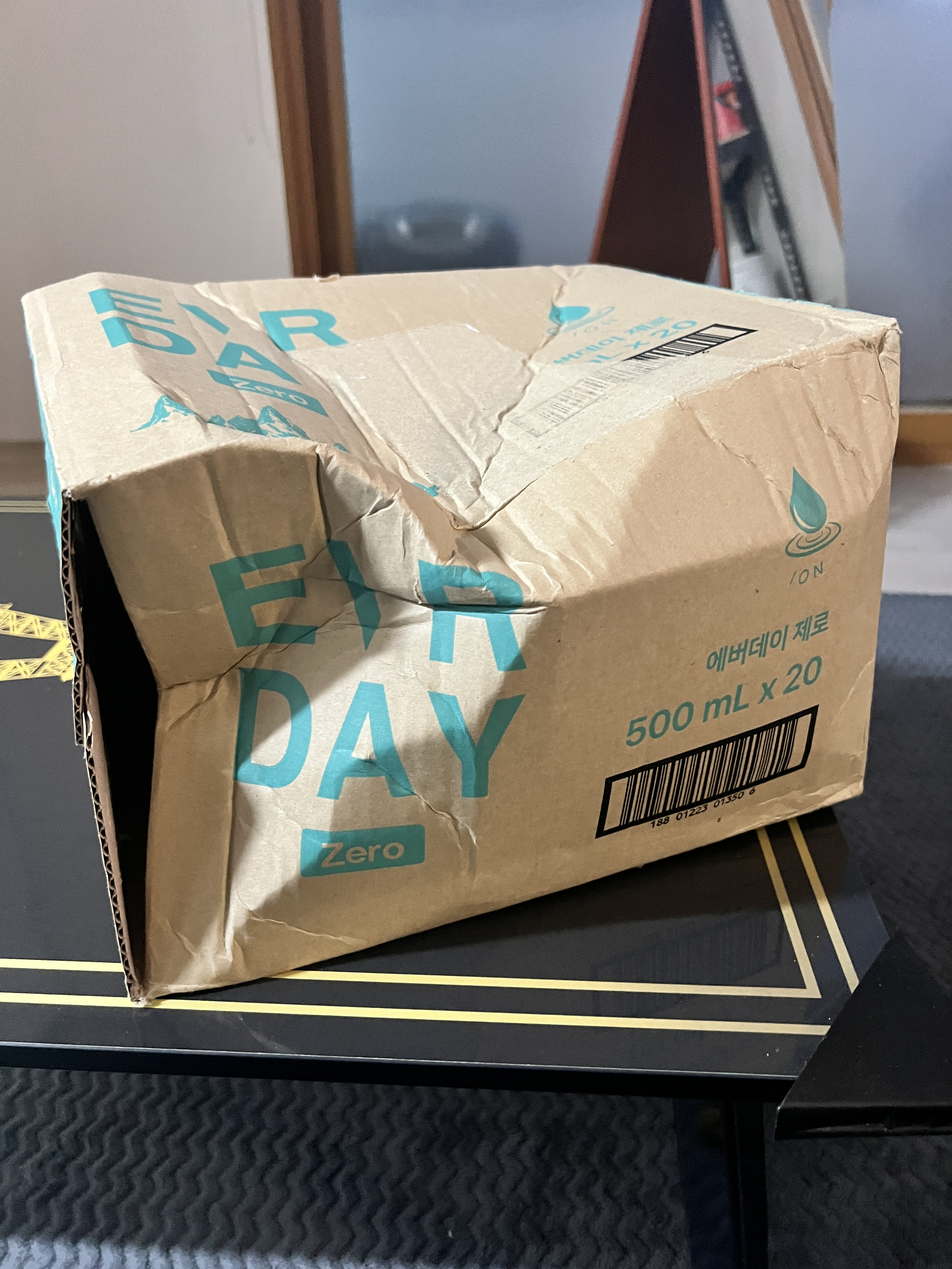damaged package: (158, 419, 551, 1013), (68, 478, 190, 986)
